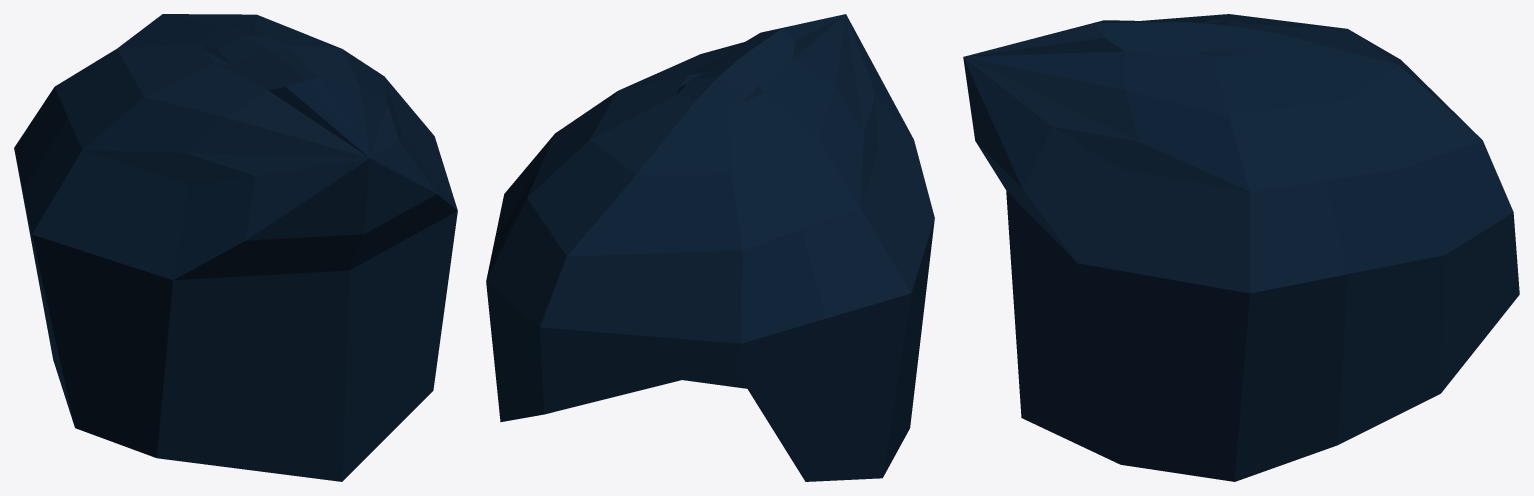
The model's file is mage_hood.fbx.
3 renders of one model, left to right at view 1: azimuth 30°, elevation 25°; view 2: azimuth 150°, elevation 25°; view 3: azimuth 270°, elevation 25°, orthographic. The views are drawn at different scales.
Parts seen in each view (by area): view 1: Cylinder.015; view 2: Cylinder.015; view 3: Cylinder.015.
Boxes of the visible parts, left/top/right/bottom form: Cylinder.015: left=14, top=14, right=457, bottom=481; Cylinder.015: left=486, top=14, right=934, bottom=481; Cylinder.015: left=963, top=14, right=1519, bottom=481.
Bounding box in the file's own units: 247 × 221 × 281.
1 material, 1 textured.
